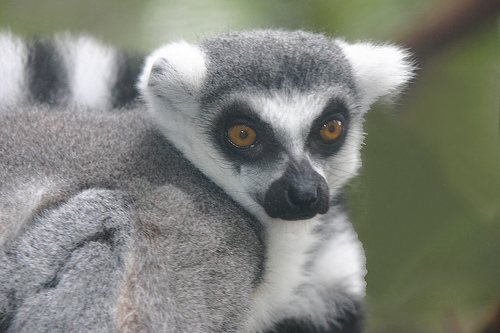cat: (0, 24, 420, 332)
